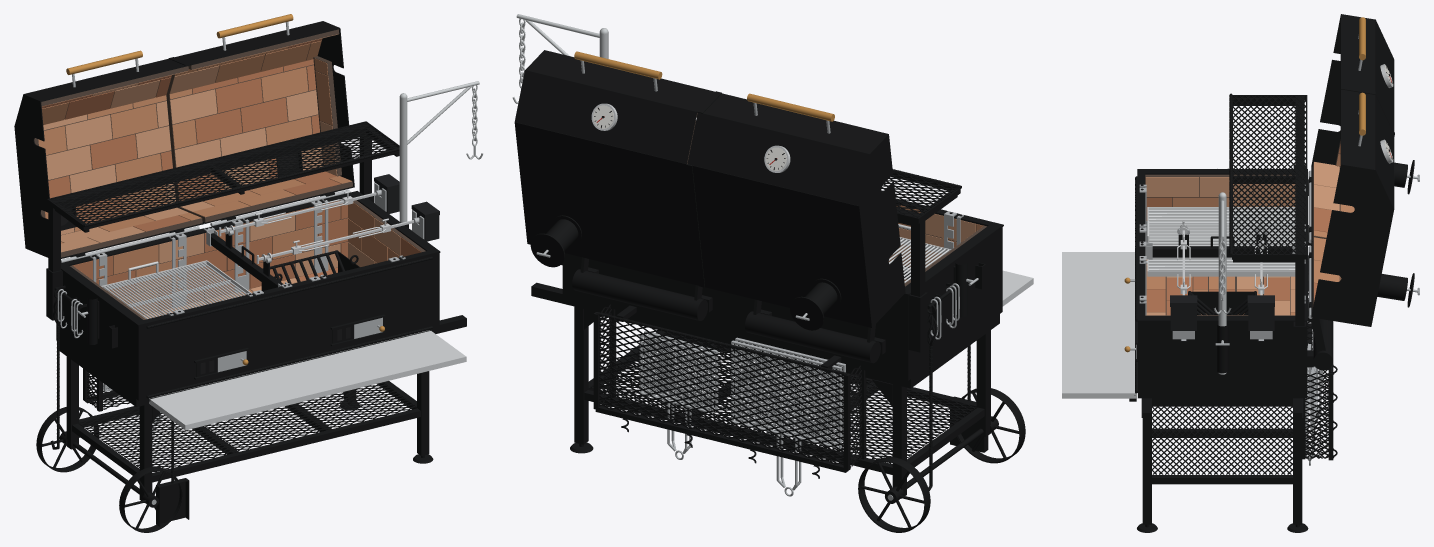
File: paulo-xl-half-spits-and-grill-black.glb
3 views of the same model, side by side, from view 1: azimuth 30°, elevation 25°; view 2: azimuth 150°, elevation 25°; view 3: azimuth 270°, elevation 25° (orthographic). The views are drawn at different scales.
Parts seen in each view (by area): view 1: Braai box (fully brick-lined):frame, Cart frame:frame, Upper shelf (lifts off):frame, Fold-up stainless table:stainless, Oven lid, right half:brick0, Oven lid, left half:brick2, Oven lid, left half:frame, Oven lid, right half:brick1, Oven lid, right half:brick2, Braai box (fully brick-lined):brick1, Half grid: stainless round bar:stainless, Oven lid, left half:brick0 (+24 smaller); view 2: Oven lid, left half:frame, Oven lid, right half:frame, Cart frame:frame, Grid & accessory storage cage (back):frame, Braai box (fully brick-lined):frame, Large zinc-plated grid:zinc, Small zinc-plated grid:zinc, Upper shelf (lifts off):frame, Potjie boom pole:galv, Braai box (fully brick-lined):brick2, Half grid: stainless round bar:stainless, Rebar poker (moves the firebox):frame (+4 smaller); view 3: Braai box (fully brick-lined):frame, Oven lid, right half:frame, Cart frame:frame, Upper shelf (lifts off):frame, Fold-up stainless table:stainless, Half grid: stainless round bar:stainless, Oven lid, left half:frame, Braai box (fully brick-lined):brick2, Grid & accessory storage cage (back):frame, Braai box (fully brick-lined):brick1, Centre spit bridge (drop-in):frame, Potjie boom pole:galv (+10 smaller).
Boxes of the visible parts, x1,y1,x2,y2 form: Braai box (fully brick-lined):frame: [46, 191, 440, 400]; Cart frame:frame: [36, 285, 466, 532]; Upper shelf (lifts off):frame: [47, 121, 399, 271]; Fold-up stainless table:stainless: [149, 330, 466, 430]; Oven lid, right half:brick0: [169, 40, 351, 217]; Oven lid, left half:brick2: [38, 71, 188, 252]; Oven lid, left half:frame: [14, 58, 204, 258]; Oven lid, right half:brick1: [177, 38, 340, 200]; Oven lid, right half:brick2: [169, 34, 338, 211]; Braai box (fully brick-lined):brick1: [72, 200, 421, 317]; Half grid: stainless round bar:stainless: [101, 260, 251, 319]; Oven lid, left half:brick0: [38, 95, 201, 243]; Oven lid, left half:frame: [687, 93, 905, 363]; Oven lid, right half:frame: [514, 50, 721, 320]; Cart frame:frame: [531, 282, 1025, 532]; Grid & accessory storage cage (back):frame: [593, 304, 866, 478]; Braai box (fully brick-lined):frame: [561, 198, 1003, 380]; Large zinc-plated grid:zinc: [731, 337, 845, 496]; Small zinc-plated grid:zinc: [639, 331, 718, 459]; Upper shelf (lifts off):frame: [881, 169, 961, 296]; Potjie boom pole:galv: [512, 14, 608, 103]; Braai box (fully brick-lined):brick2: [895, 214, 975, 268]; Half grid: stainless round bar:stainless: [889, 224, 951, 283]; Rebar poker (moves the firebox):frame: [927, 303, 937, 490]; Braai box (fully brick-lined):frame: [1135, 165, 1313, 398]; Oven lid, right half:frame: [1309, 86, 1414, 370]; Cart frame:frame: [1137, 323, 1312, 532]; Upper shelf (lifts off):frame: [1229, 93, 1307, 325]; Fold-up stainless table:stainless: [1062, 252, 1137, 398]; Half grid: stainless round bar:stainless: [1146, 207, 1295, 276]; Oven lid, left half:frame: [1309, 14, 1414, 241]; Braai box (fully brick-lined):brick2: [1145, 177, 1295, 315]; Grid & accessory storage cage (back):frame: [1302, 271, 1337, 460]; Braai box (fully brick-lined):brick1: [1146, 197, 1289, 315]; Centre spit bridge (drop-in):frame: [1152, 234, 1292, 257]; Potjie boom pole:galv: [1214, 192, 1231, 374].
Size of the model in its own units: 2.02 by 1.81 by 1.52.
